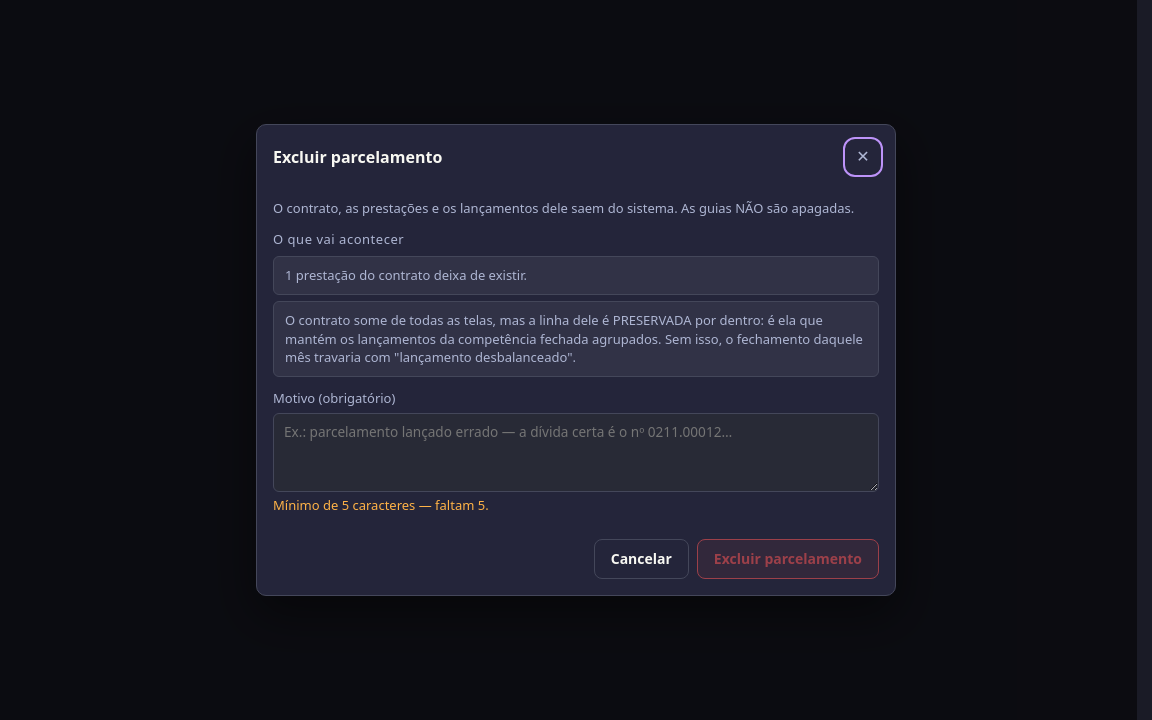
Test case: ato bloqueia saída e edição durante gravação, preservando motivo após recusa
Replace the text in the text box labelled "Motivo (obrigatório)" with "Corrigir contrato cadastrado incorretamente" at (576,452), box [273,413,879,492]
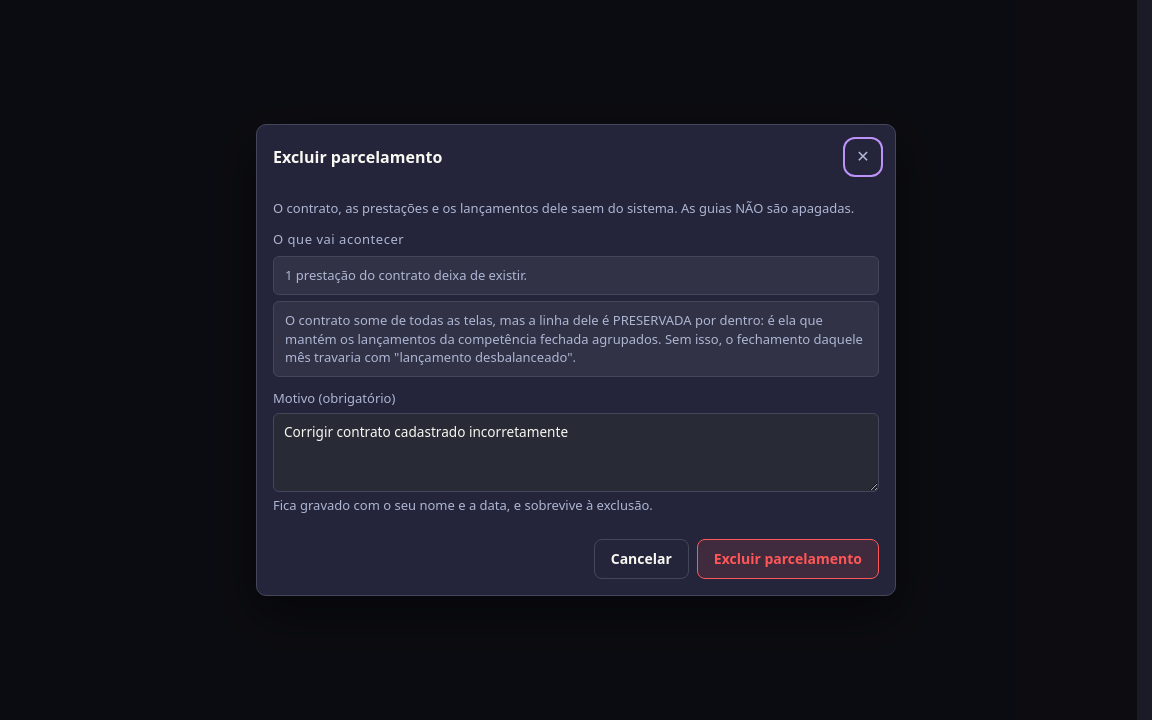
Click the button "Excluir parcelamento" at (788,559), box [697,539,879,579]
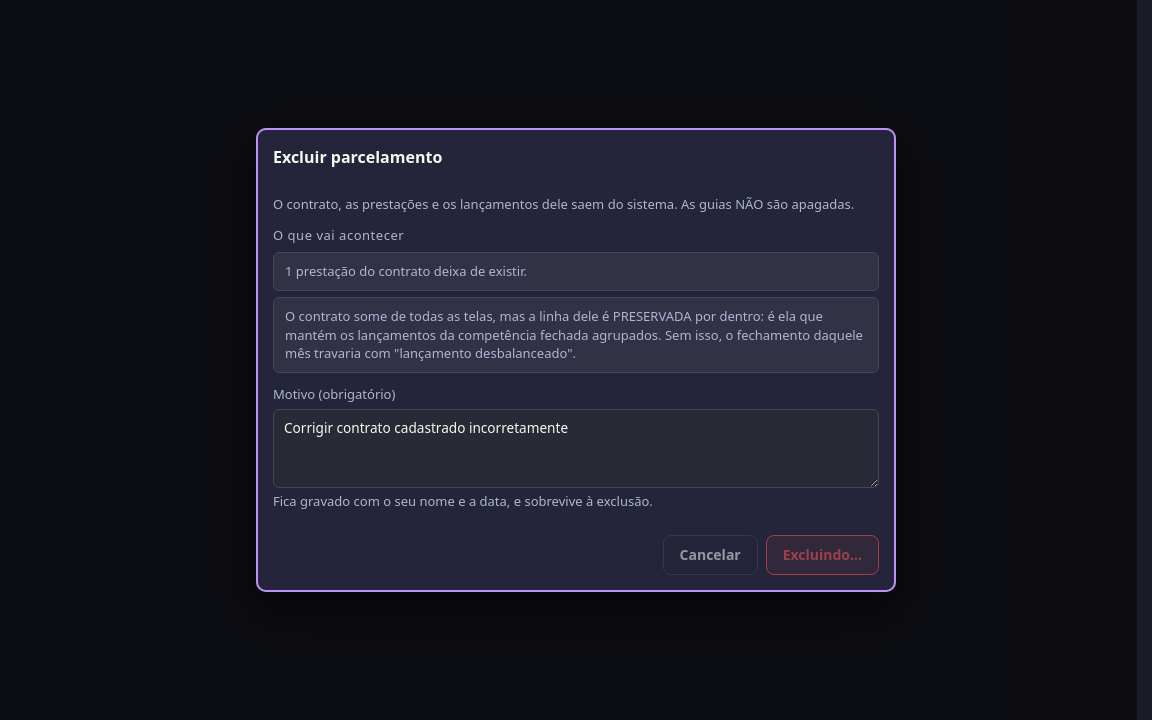
expect the text box labelled "Motivo (obrigatório)" is disabled: met, box [273,409,879,488]
Press Escape
Press Tab
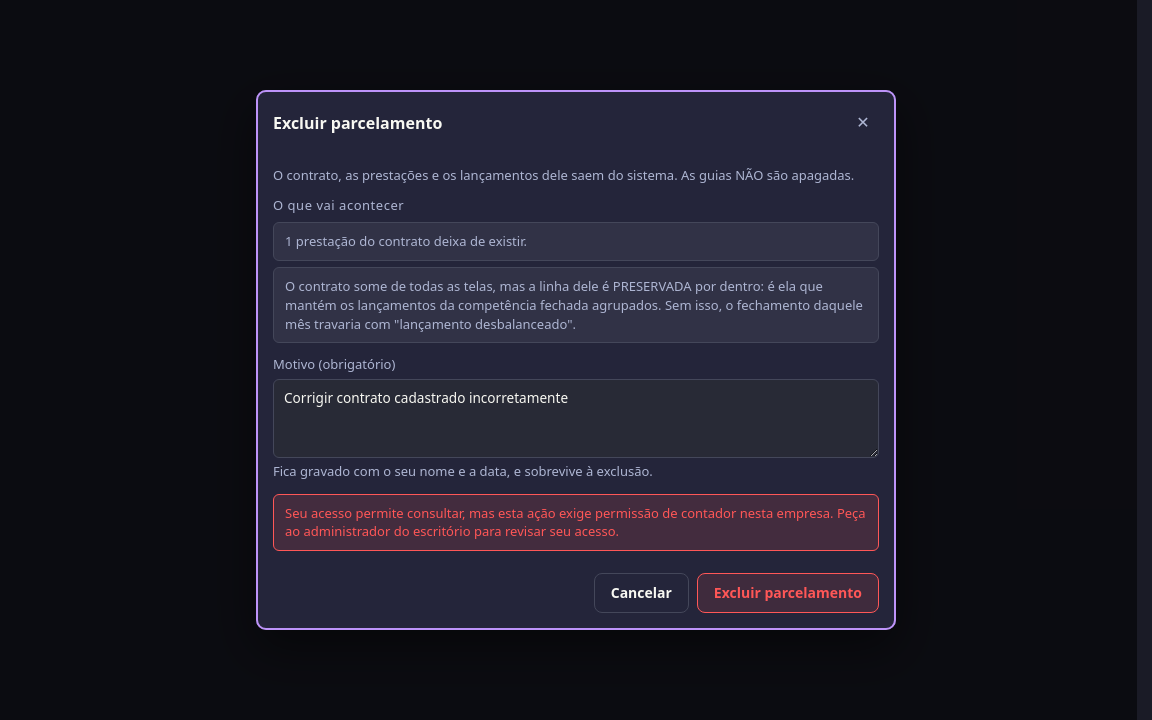
expect the message shows "permissão de contador": met, box [285,504,866,540]
